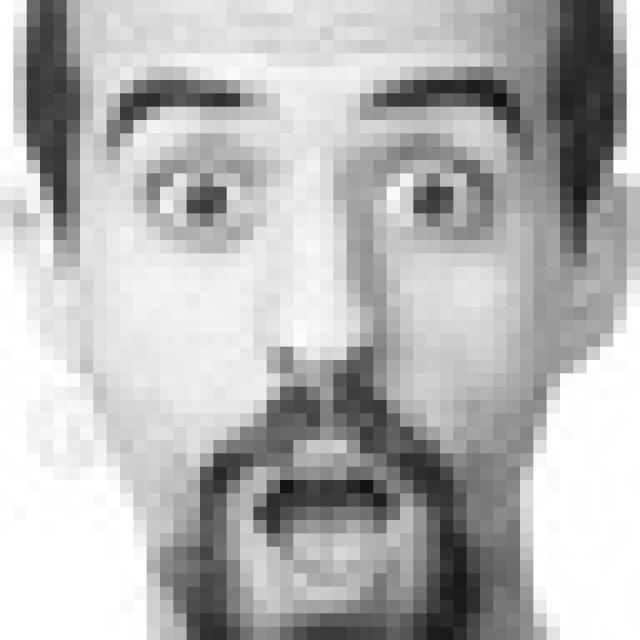surprise: (97, 64, 534, 629)
